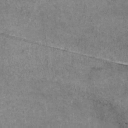finishing roll printing: (0, 32, 128, 66)
